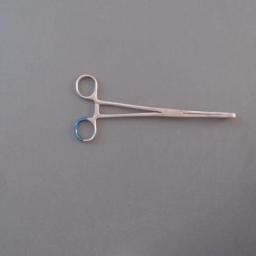Sponge Forceps: (70, 68, 238, 148)
